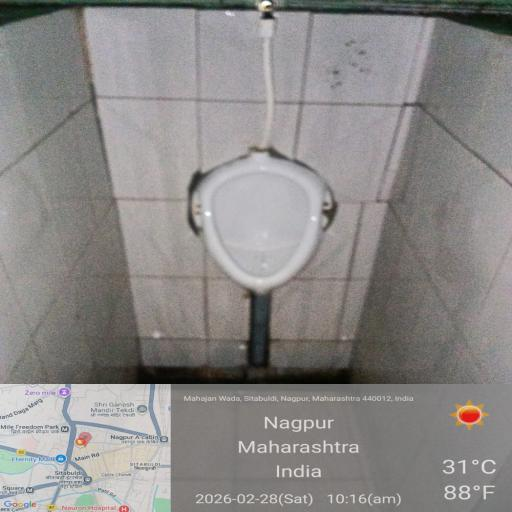clean_urinal: (172, 125, 380, 307)
partial_dirty_floor: (18, 271, 447, 512), (13, 18, 511, 154)
